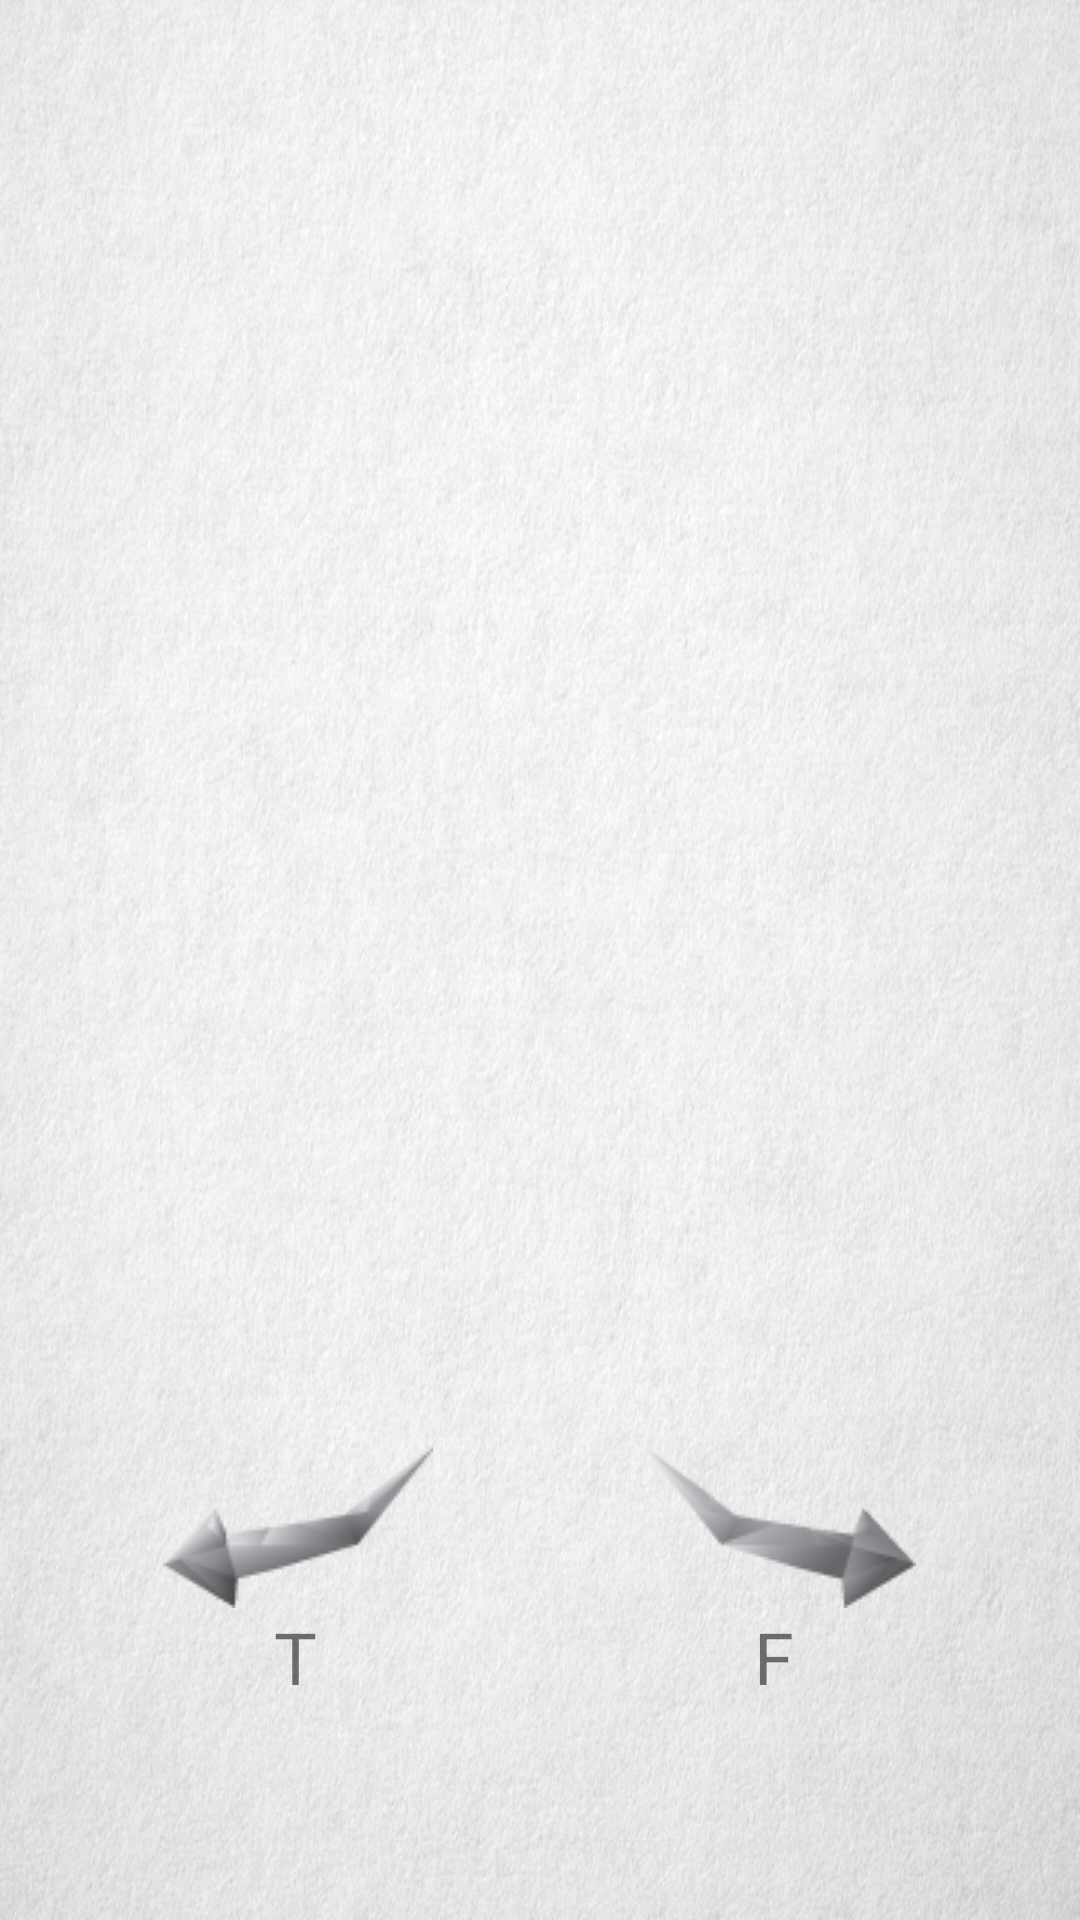

Where to tap for icons on this 1080x1920 app screen, as [x,y]:
arrow false: [786,1532]
arrow true: [298,1528]
